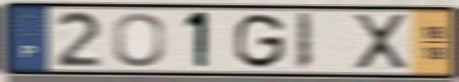1: (180, 10, 211, 72)
2: (54, 10, 105, 69)
G: (231, 12, 288, 71)
I: (294, 11, 314, 73)
O: (111, 11, 167, 69)
X: (350, 12, 411, 72)
